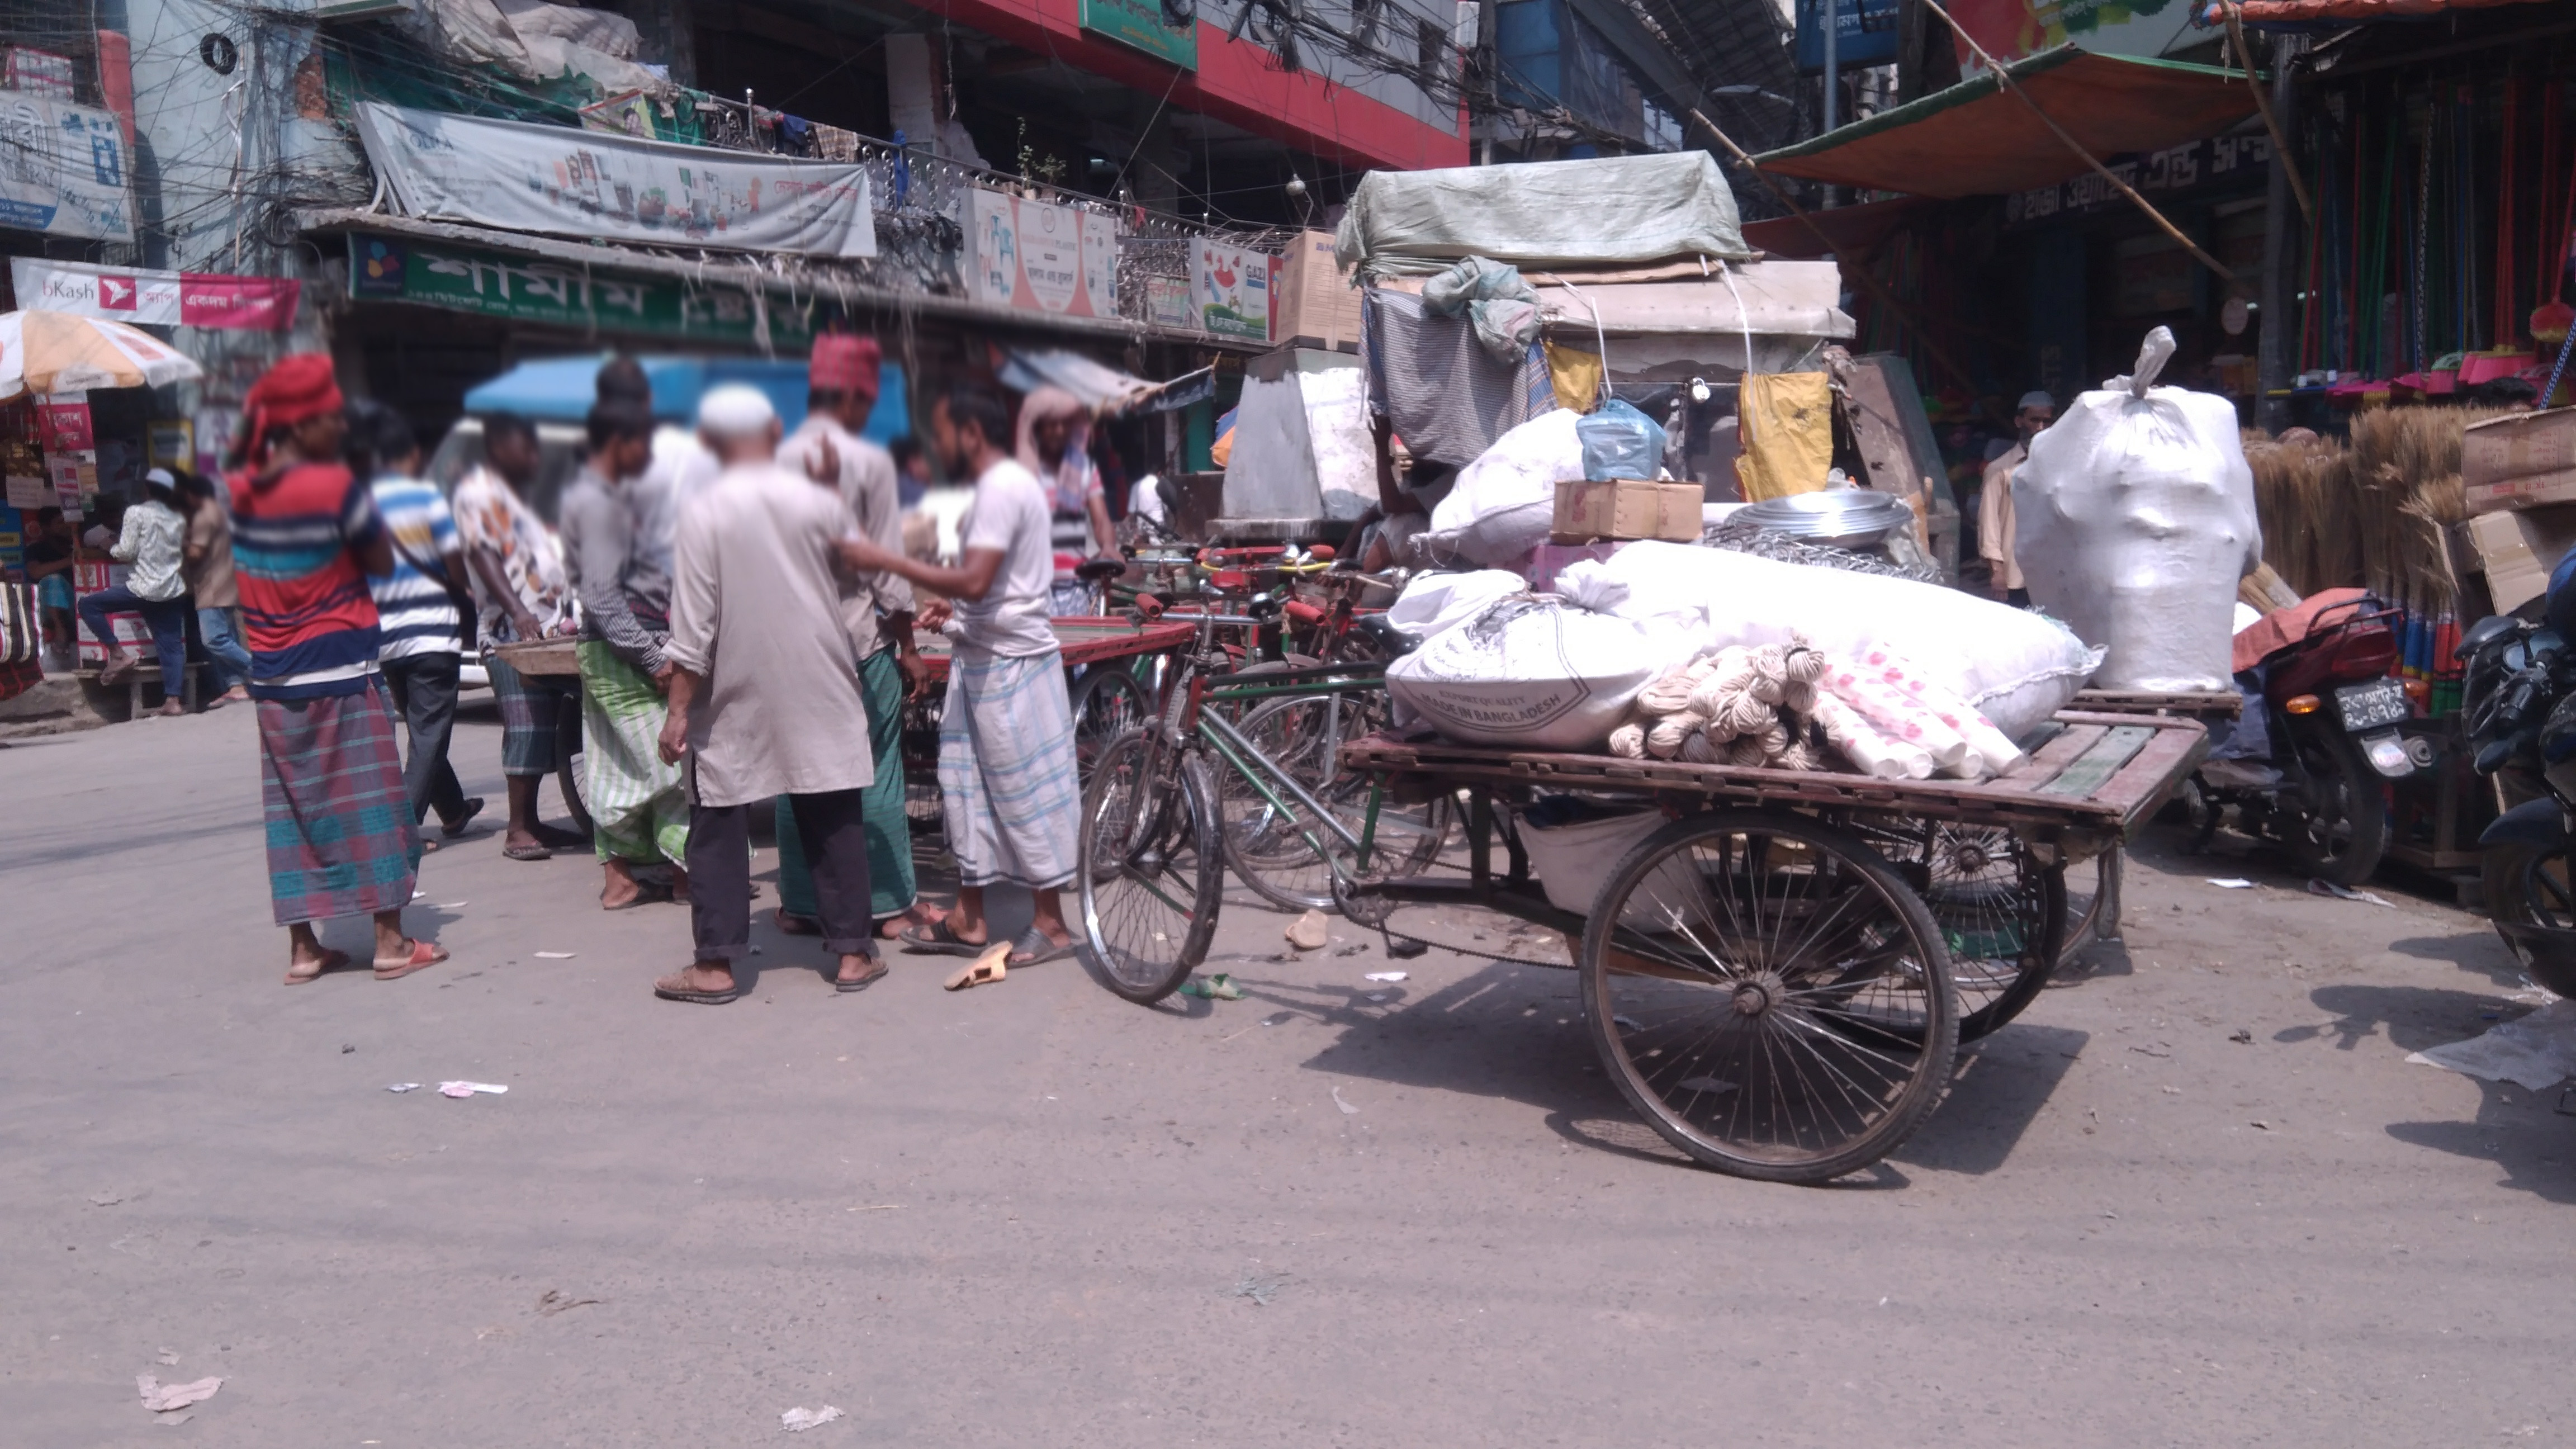bike: (2454, 561, 2576, 998), (2247, 600, 2431, 885)
van: (1086, 586, 2203, 1182), (906, 600, 1205, 855)
